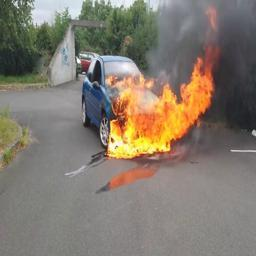fire: (106, 5, 218, 160)
